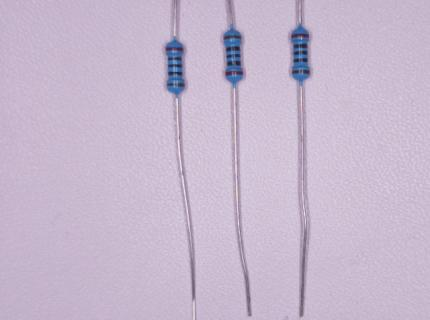Black band: (227, 61, 241, 66), (226, 46, 240, 51), (294, 44, 307, 49), (226, 54, 241, 58), (168, 57, 182, 61), (294, 51, 307, 55), (168, 65, 182, 68), (168, 72, 182, 75), (293, 59, 307, 62)
Brown band: (292, 70, 310, 75), (224, 35, 241, 40), (167, 83, 185, 87)
Red band: (165, 47, 183, 52), (226, 71, 243, 76), (291, 34, 309, 38)
